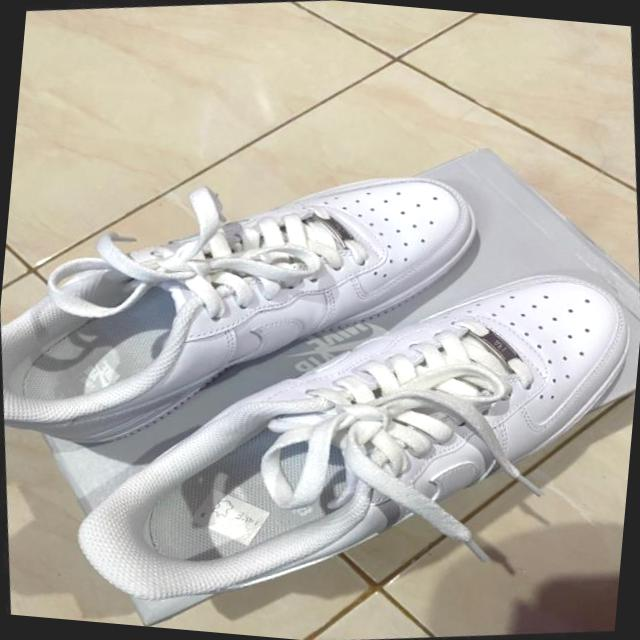nike_original_airforce: (38, 219, 640, 640), (0, 126, 526, 495)
